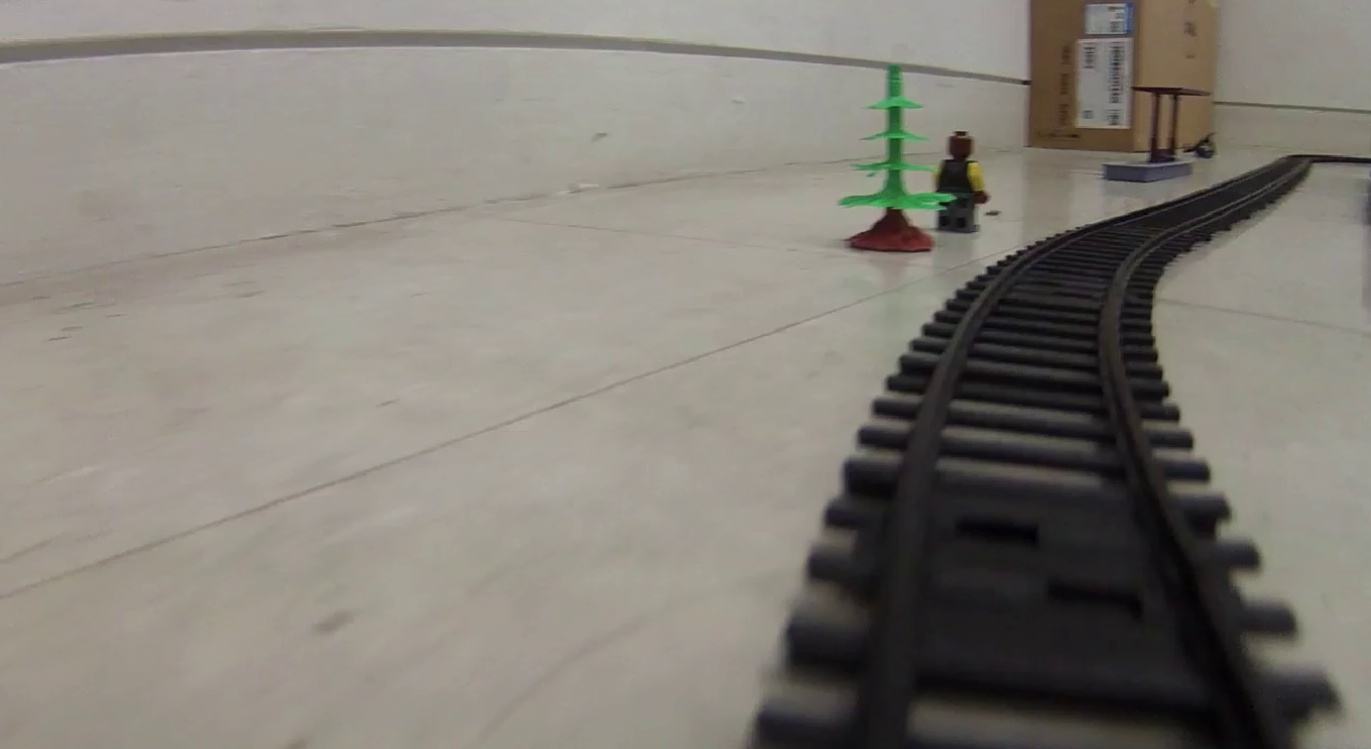people: (932, 129, 988, 234)
tree: (839, 67, 942, 252)
